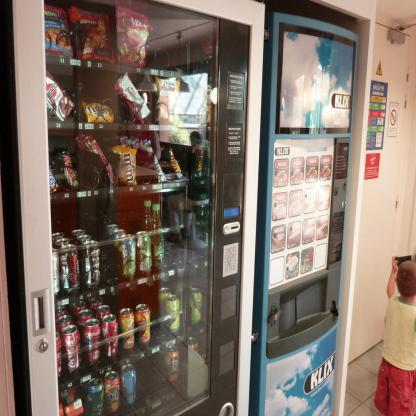door: (342, 26, 416, 368)
hinged: (396, 192, 399, 209), (404, 100, 408, 110), (406, 74, 410, 82)
